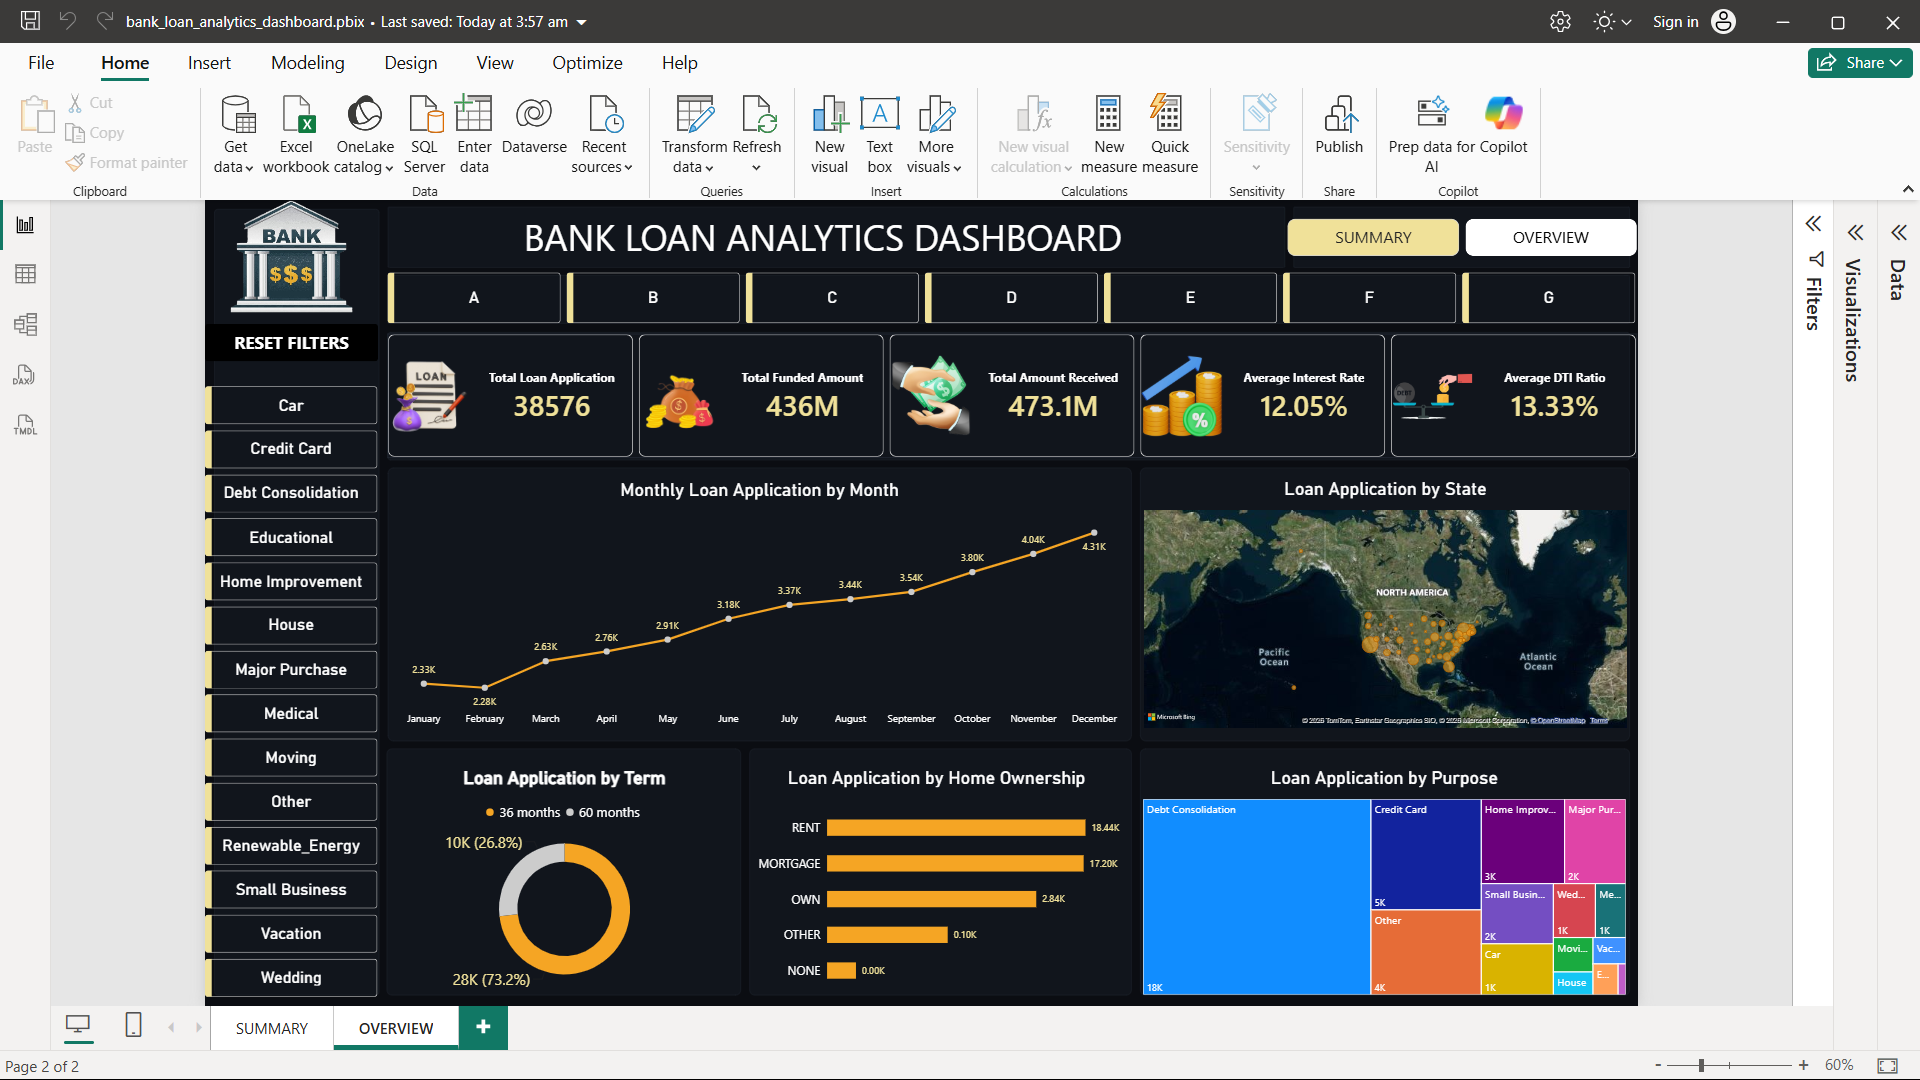

Layout of this report page (visuals, bound fields, positions):
{"tool":"powerbi","page":{"name":"OVERVIEW","canvas":[1920,1080],"ordinal":1},"visuals":[{"type":"cardVisual","fields":{"Data":["financial_loan.Total Loan Application","financial_loan.Total Funded Amount","financial_loan.Total Amount Received","financial_loan.Average Interest Rate","financial_loan.Average DTI Rate"]},"box":[244.9,179.1,1675.5,166.7],"z":0},{"type":"image","box":[0,0,232,150],"z":2000},{"type":"advancedSlicerVisual","fields":{"Values":["financial_loan.PURPOSE"]},"box":[0,249.4,232,830.2],"z":3000},{"type":"advancedSlicerVisual","fields":{"Values":["financial_loan.GRADE"]},"box":[244.2,97.7,1676.2,68],"z":4000},{"type":"actionButton","box":[0,165.7,232,50.6],"z":5000},{"type":"textbox","box":[427.3,17.4,1008.1,80.2],"z":6000},{"type":"pageNavigator","box":[1450.8,24.4,469.2,50.6],"z":7000},{"type":"lineChart","title":"Monthly Loan Application by Month","fields":{"Category":["financial_loan.ISSUE_DATE.Variation.Date Hierarchy.Month"],"Y":["financial_loan.Total Loan Application"]},"box":[244.2,359.3,997.7,364.5],"z":8000},{"type":"donutChart","title":"Loan Application by Term","fields":{"Category":["financial_loan.TERM"],"Y":["financial_loan.Total Loan Application"]},"box":[244.2,744.8,474.4,334.9],"z":9000},{"type":"clusteredBarChart","title":" Loan Application by Home Ownership","fields":{"Category":["financial_loan.HOME_OWNERSHIP"],"Y":["financial_loan.Total Loan Application"]},"box":[718.6,744.8,523.3,334.9],"z":10000},{"type":"treemap","title":"Loan Application by Purpose","fields":{"Group":["financial_loan.PURPOSE"],"Values":["financial_loan.Total Loan Application"]},"box":[1241.9,744.8,678.5,334.9],"z":11000},{"type":"map","title":"Loan Application by State","fields":{"Category":["financial_loan.ADDRESS_STATE"],"Size":["financial_loan.Total Loan Application"]},"box":[1242,359,678,365],"z":12000}]}

Visuals, with their boxes on the page's 1920x1080 design canvas (x1, y1, x2, y2). These are canvas units, not pixel positions in the 1920x1080 screenshot, which may show the page scaled, cropped or inside an application window:
cardVisual - financial_loan.Total Loan Application x financial_loan.Total Funded Amount: detection(245, 179, 1920, 346)
image: detection(0, 0, 232, 150)
advancedSlicerVisual - financial_loan.PURPOSE: detection(0, 249, 232, 1080)
advancedSlicerVisual - financial_loan.GRADE: detection(244, 98, 1920, 166)
actionButton: detection(0, 166, 232, 216)
textbox: detection(427, 17, 1435, 98)
pageNavigator: detection(1451, 24, 1920, 75)
"Monthly Loan Application by Month" lineChart: detection(244, 359, 1242, 724)
"Loan Application by Term" donutChart: detection(244, 745, 719, 1080)
" Loan Application by Home Ownership" clusteredBarChart: detection(719, 745, 1242, 1080)
"Loan Application by Purpose" treemap: detection(1242, 745, 1920, 1080)
"Loan Application by State" map: detection(1242, 359, 1920, 724)
